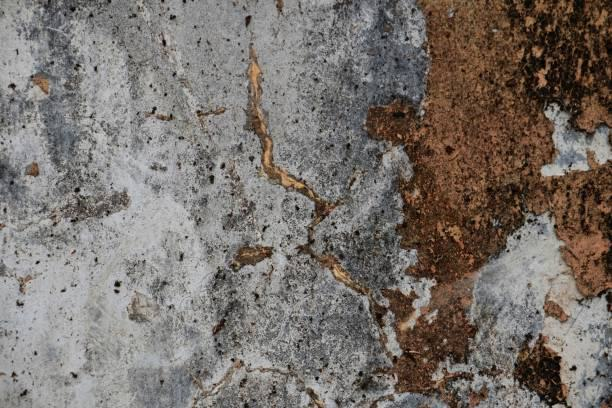Corrosion: (377, 1, 612, 408), (245, 44, 393, 363), (191, 357, 320, 408), (512, 331, 570, 408), (226, 243, 275, 272), (28, 70, 51, 96), (24, 161, 40, 179)
Spalling: (1, 1, 359, 408)
